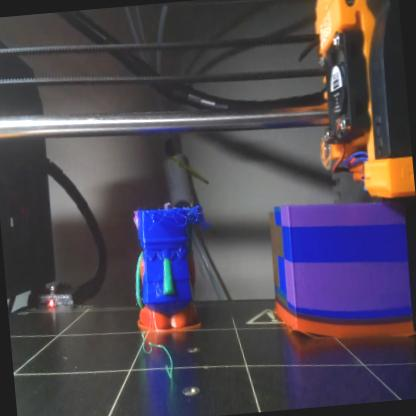fail: (150, 206, 209, 237), (155, 283, 165, 300)
